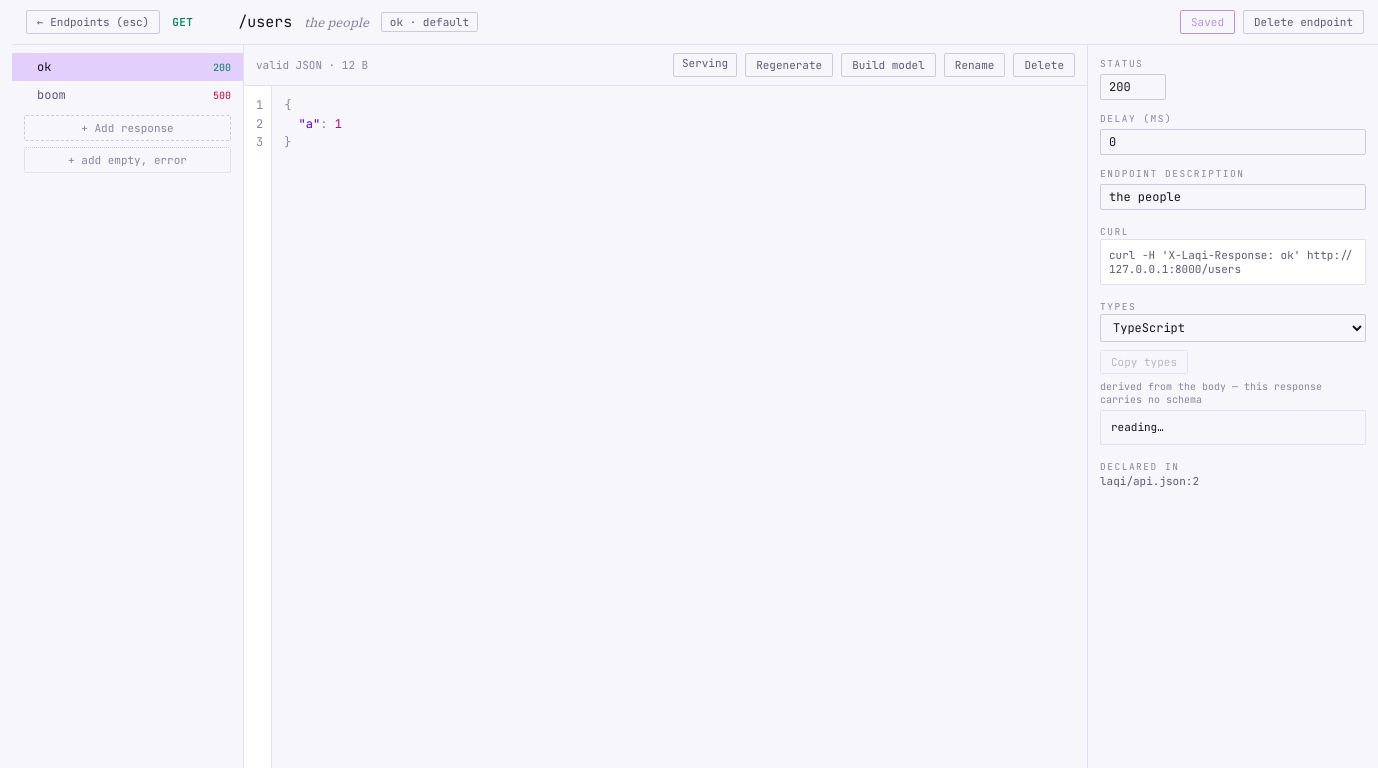
generated types and data › shows an error when Regenerate fails, instead of dying silently
What coordinates should you click on to do the following:
click the button "Regenerate"
I would click on:
 (789, 65)
Its box is [745, 53, 833, 77].
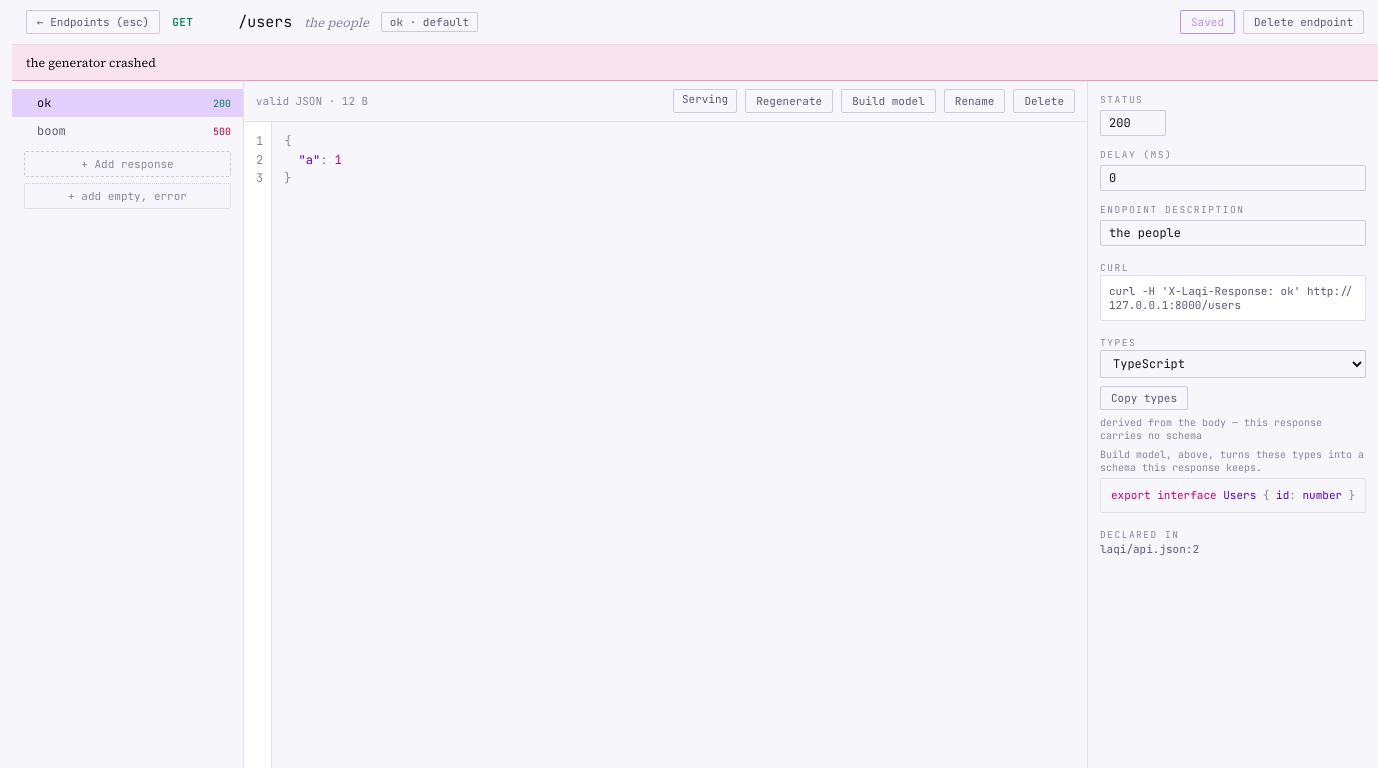
expect the text "the generator crashed" is shown: met, box [12, 45, 1377, 81]
